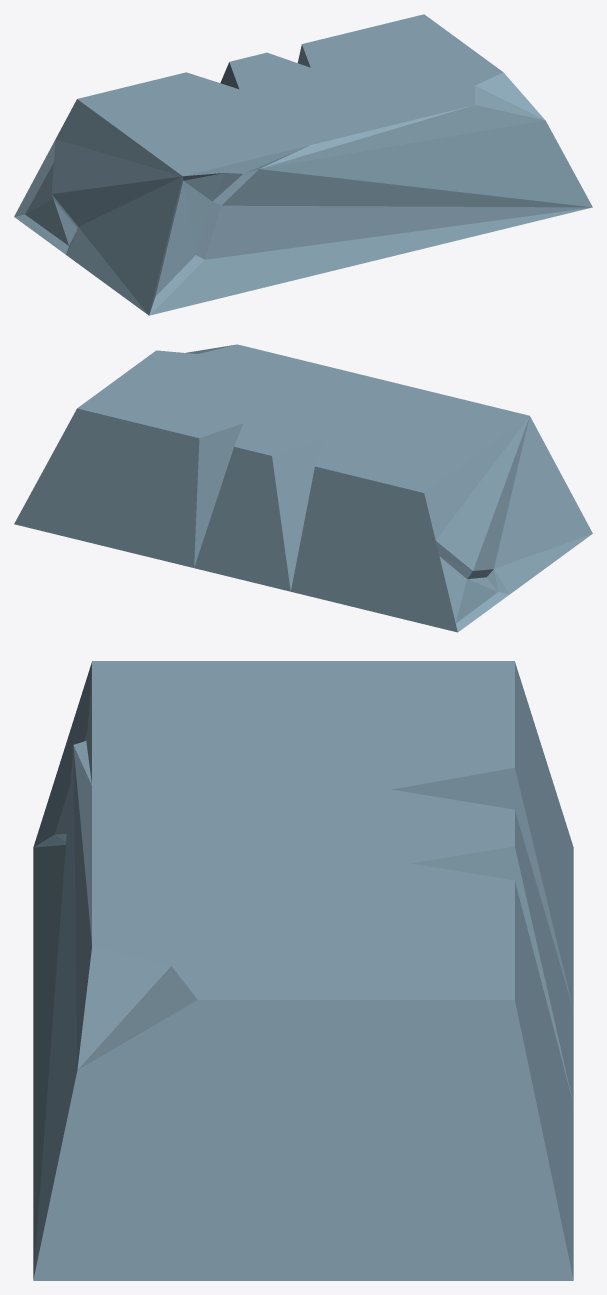
Rendered from _sapfir_2.fbx.
The picture shows the model from 3 angles, top to bottom: view 1: azimuth 30°, elevation 25°; view 2: azimuth 150°, elevation 25°; view 3: azimuth 270°, elevation 25°; orthographic projection. The views are drawn at different scales.
Parts seen in each view (by area): view 1: sapfir_2; view 2: sapfir_2; view 3: sapfir_2.
Part boxes in pixels (x1,y1,x2,y2): sapfir_2: (14, 14, 592, 315); sapfir_2: (14, 344, 592, 632); sapfir_2: (33, 661, 573, 1280).
Size of the model in its own units: 12.98 by 3.26 by 6.84.
